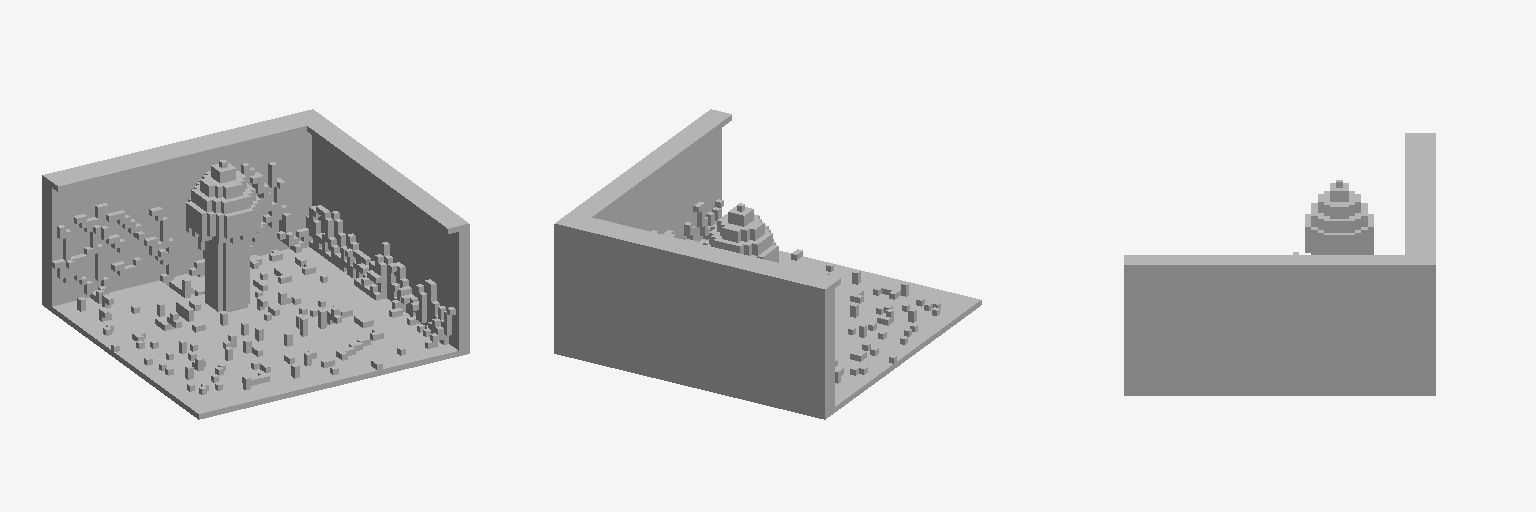
File: yard.obj
3 views of the same model, side by side, from view 1: azimuth 30°, elevation 25°; view 2: azimuth 150°, elevation 25°; view 3: azimuth 270°, elevation 25° (orthographic).
Size of the model in its own units: 50 by 26 by 50.